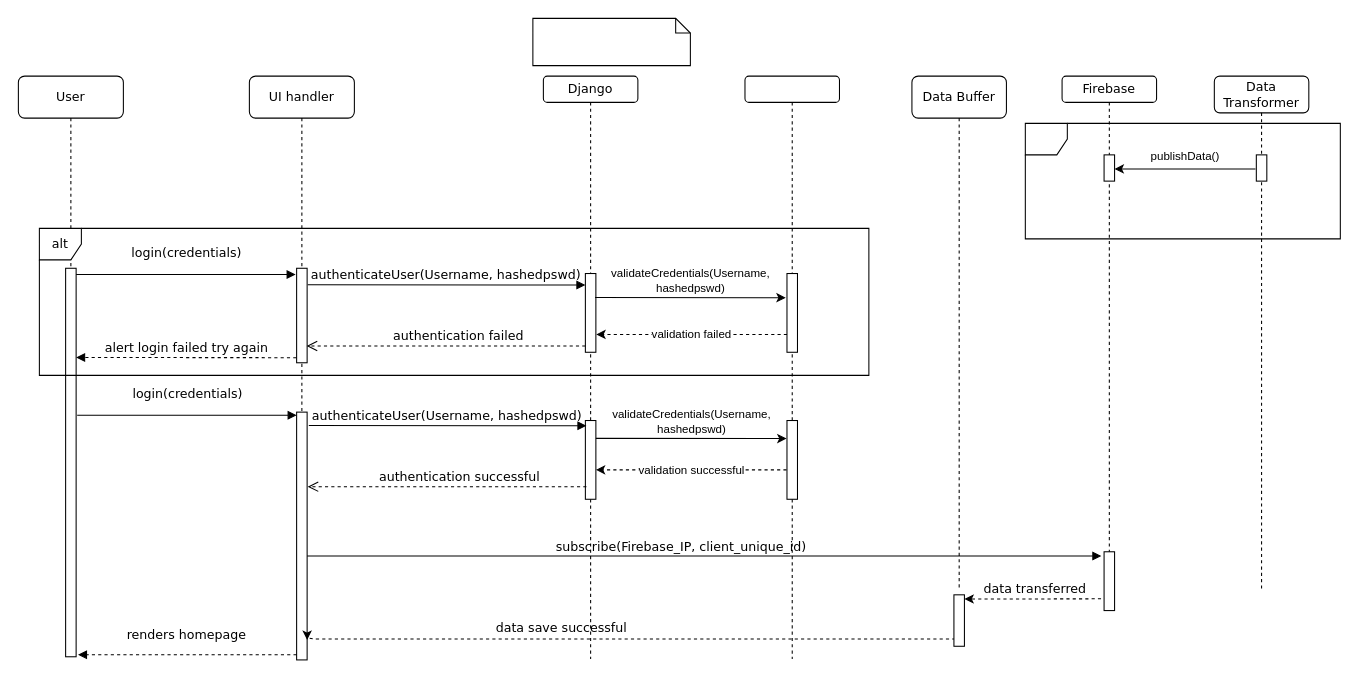
The diagram is 1359 pixels wide and 682 high, and some of its shapes have lost their labels. Each missing label, with the centre of its shape:
Backend DB: point 791,367
loop: point 1182,180
User data is available already: point 611,41
